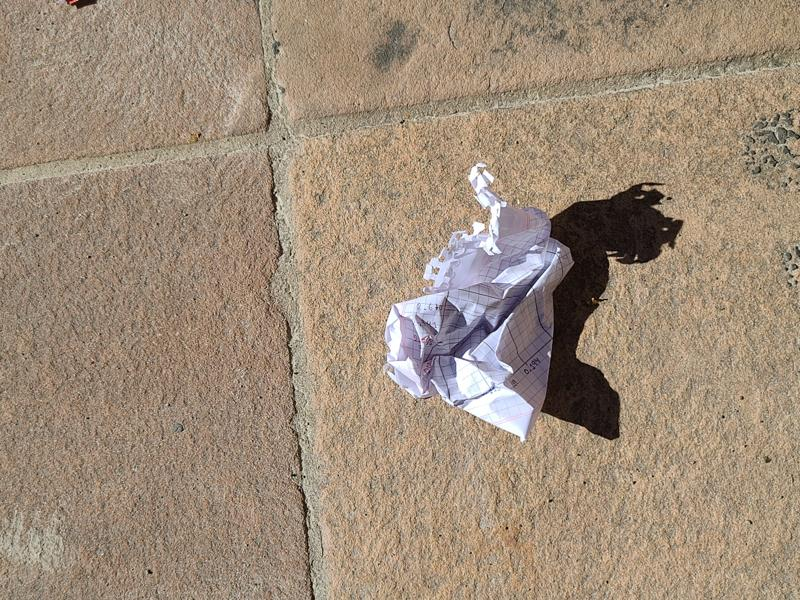papel: (382, 165, 587, 441)
